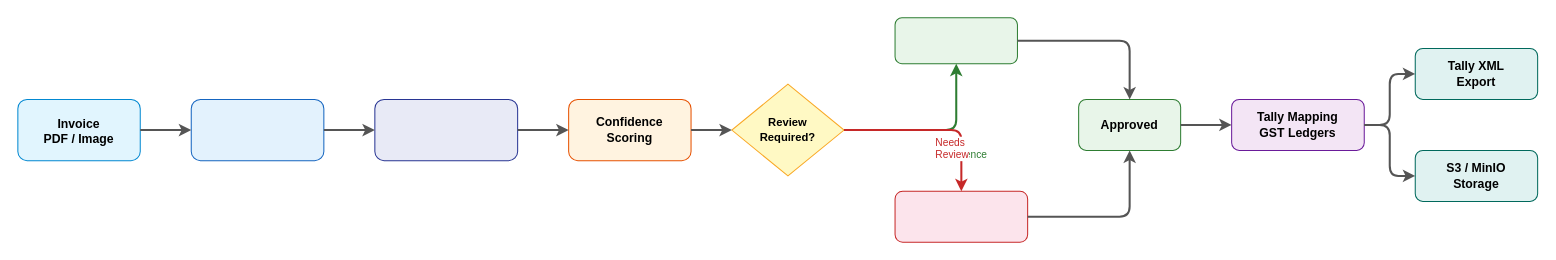
Some shapes in this 1556 by 260 pixel diagram are drawn without their labels. Here are the shapes that lost their labels. From the top down, the centre of each, then its label:
At (x=955, y=40): "Auto-Approve".
At (x=257, y=129): "AI Parsing OCR + Layout".
At (x=446, y=129): "Structured JSON Field Extraction".
At (x=961, y=216): "Human Review Dashboard".
